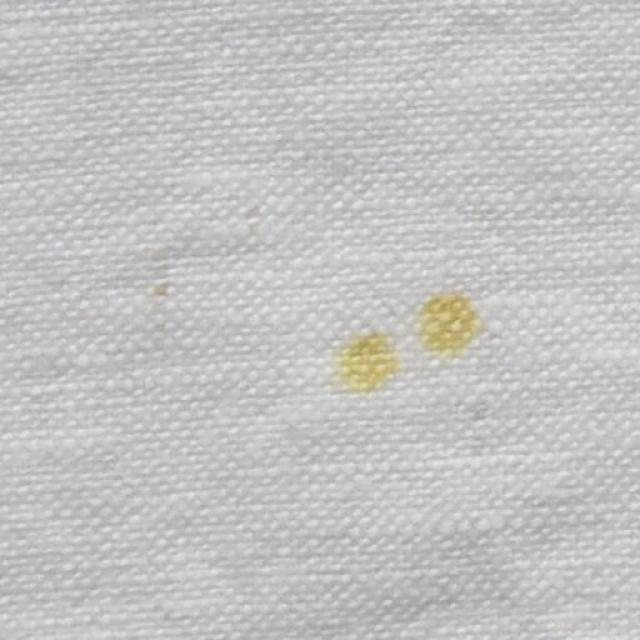Stain: (334, 331, 401, 399), (409, 299, 476, 366)
